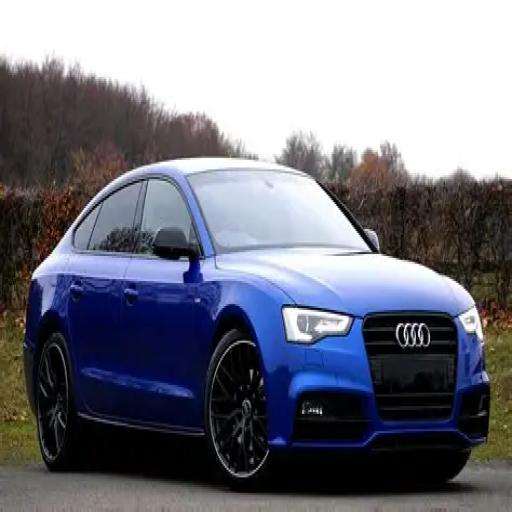car: (22, 154, 490, 489)
